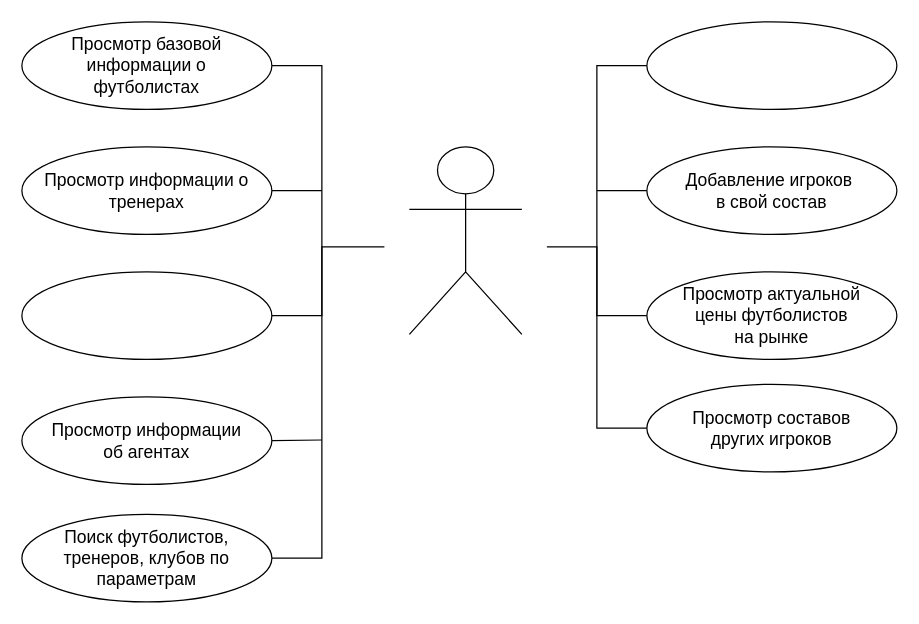
Some shapes in this 919 by 624 pixel diagram are drawn without their labels. Here are the shapes that lost their labels. From the top down, the centre of each, then its label:
At [771,65]: "Выход из аккаунта".
At [465,240]: "Авторизированный пользователь".
At [146,315]: "Просмотр базовой информации о клубах".
